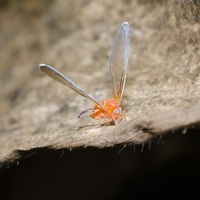insect: (39, 22, 129, 123)
